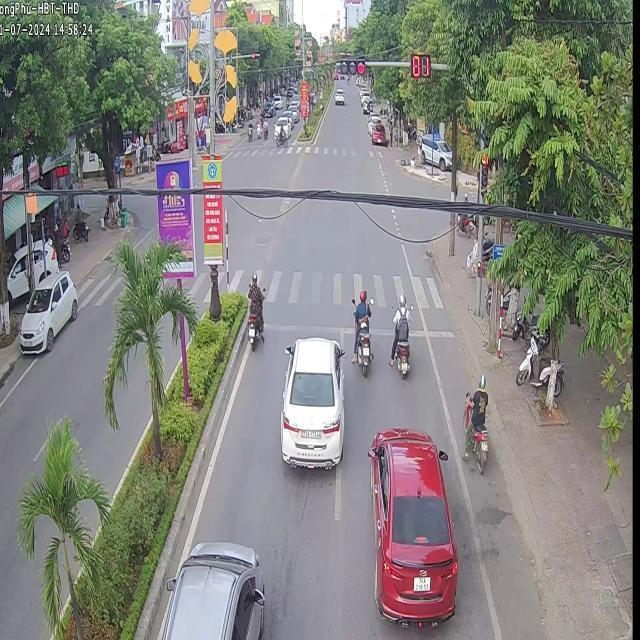car: (367, 427, 457, 622), (162, 540, 263, 638), (279, 336, 344, 467), (18, 269, 77, 351)
motobike: (460, 374, 487, 471), (388, 302, 410, 376), (246, 280, 262, 347), (356, 316, 370, 374)
red_light: (339, 58, 365, 74), (411, 57, 431, 77)
stop_line: (263, 320, 352, 331), (368, 322, 392, 342)
